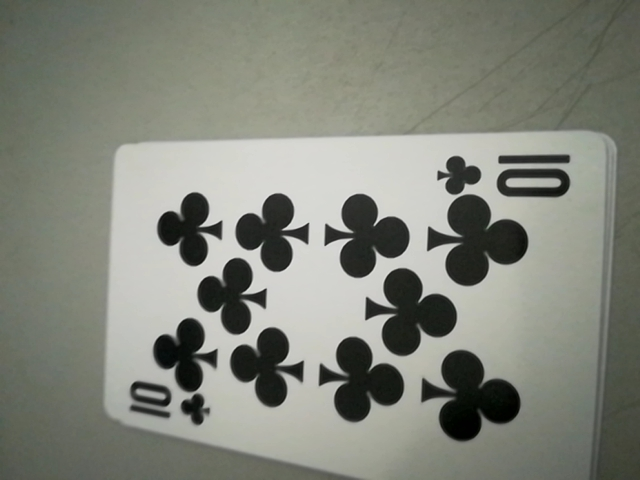mh 10: (431, 146, 582, 202), (121, 381, 214, 434)
